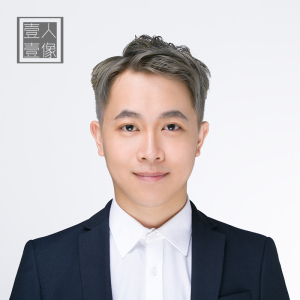unmask: (106, 83, 199, 203)
